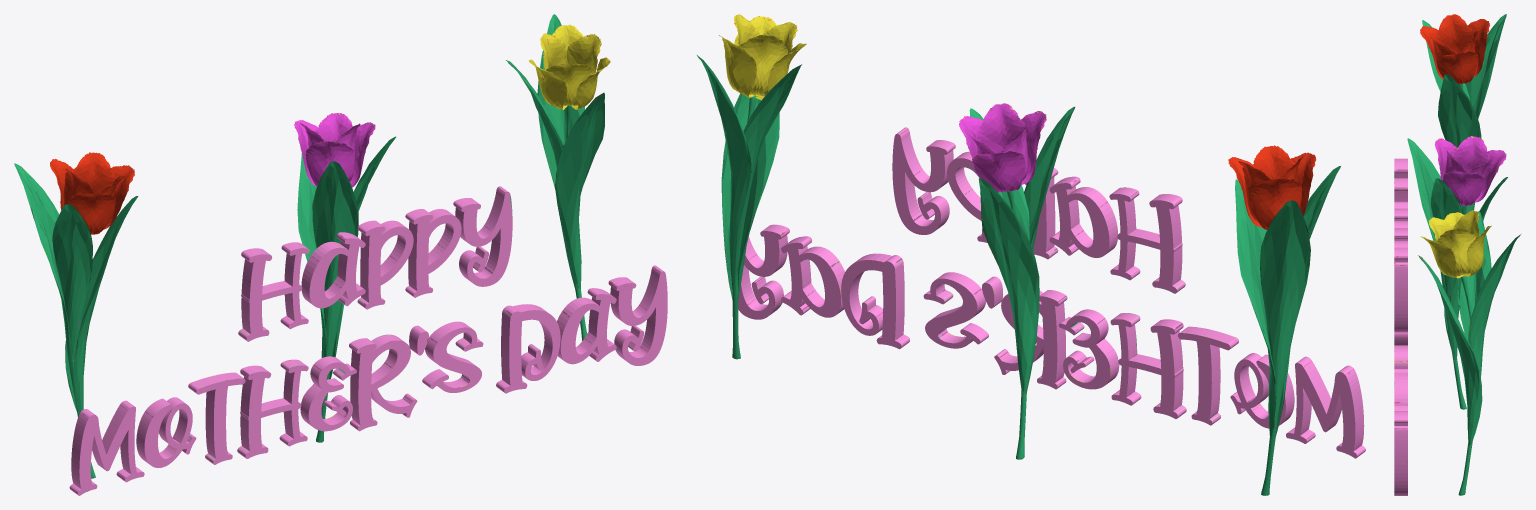
3 views of the same model, side by side, from view 1: azimuth 30°, elevation 25°; view 2: azimuth 150°, elevation 25°; view 3: azimuth 270°, elevation 25° (orthographic). The views are drawn at different scales.
Parts seen in each view (by area): view 1: banner_12978_tulip_flower_l3.002; view 2: banner_12978_tulip_flower_l3.002; view 3: banner_12978_tulip_flower_l3.002.
Part boxes in pixels (<box>): banner_12978_tulip_flower_l3.002: <box>14,14,667,495</box>; banner_12978_tulip_flower_l3.002: <box>697,14,1365,495</box>; banner_12978_tulip_flower_l3.002: <box>1394,14,1520,495</box>.
Bounding box in the file's own units: 5.54 × 3.1 × 1.22.
Materials: 1 (1 with a texture image).
